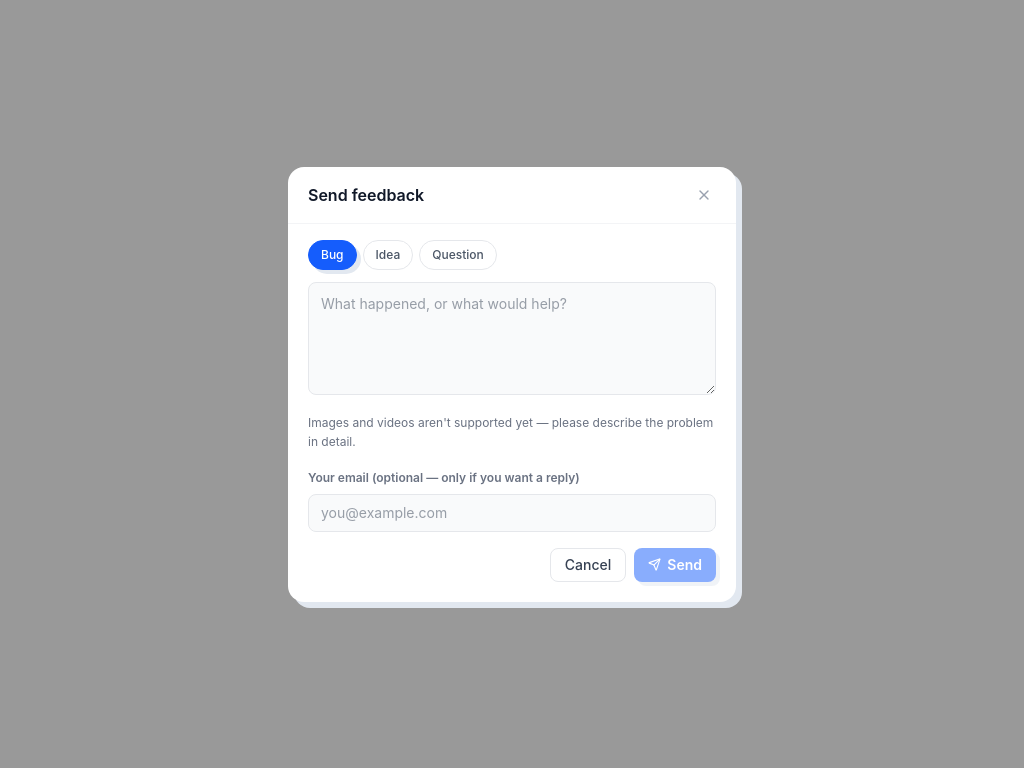
FeedbackDialog › sends the selected kind and typed text, then shows a confirmation
Click the button "Idea".
click(388, 254)  # box [362, 240, 413, 270]
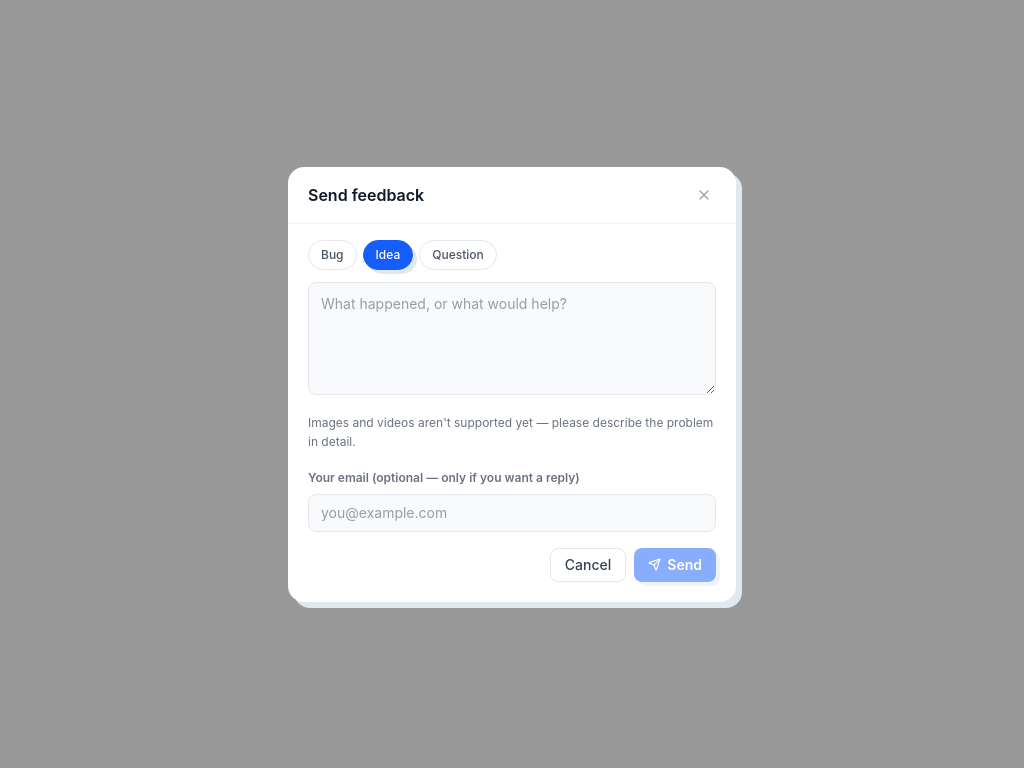
Type "Dark mode for the mind map" into the text box with placeholder "What happened, or what would help?".
click(512, 338); type("Dark mode for the mind map")  # box [308, 282, 716, 394]
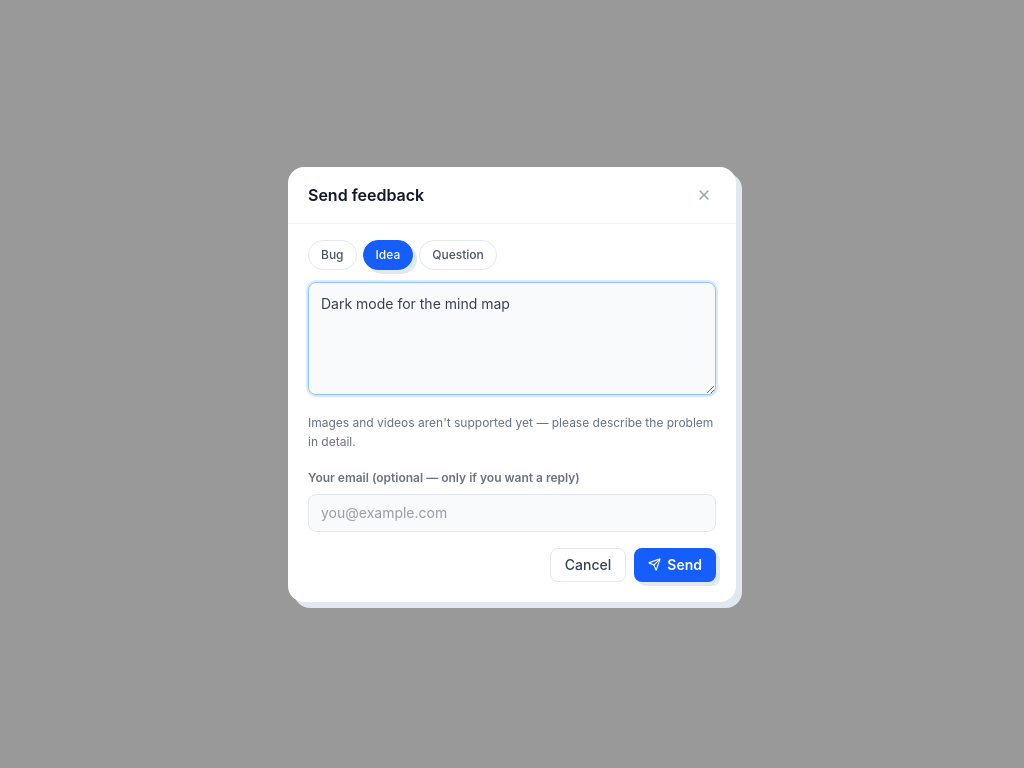
Click the button "Send".
click(675, 564)  # box [634, 548, 716, 582]
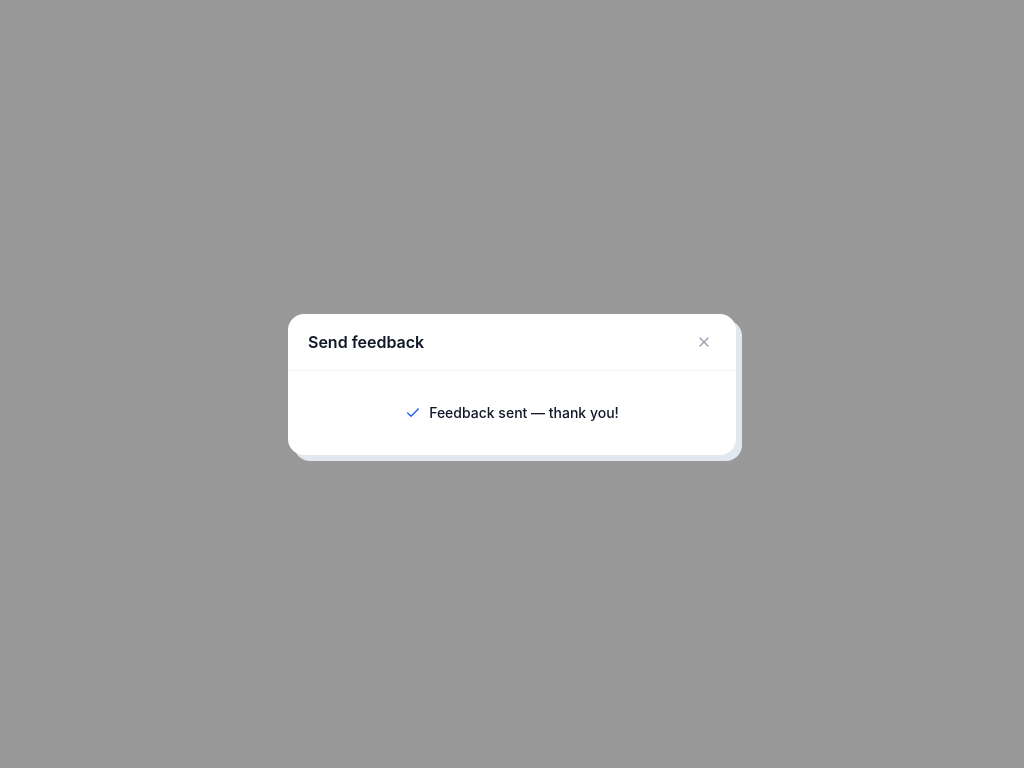
Now the text "Feedback sent — thank you!" is shown, box [405, 404, 619, 420]
